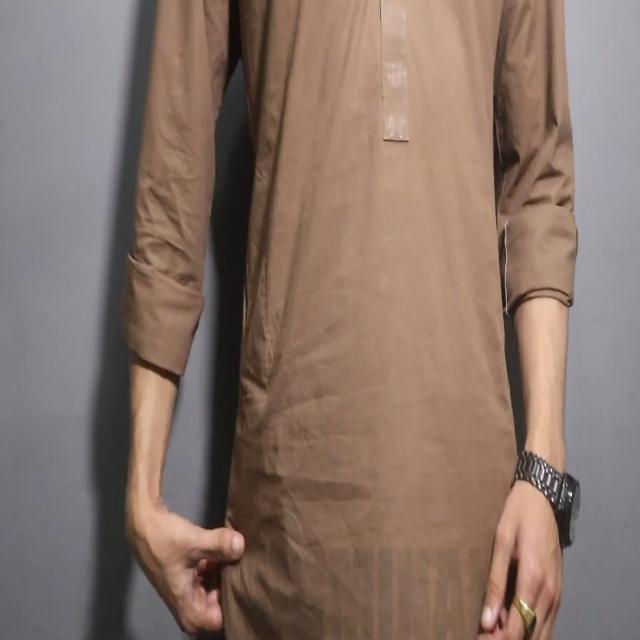dress: (118, 0, 584, 640)
